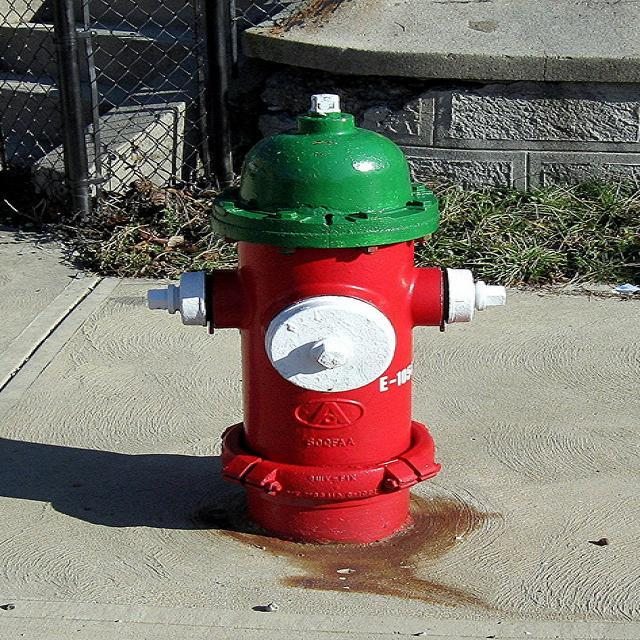fire_hydrant: (150, 97, 510, 548)
